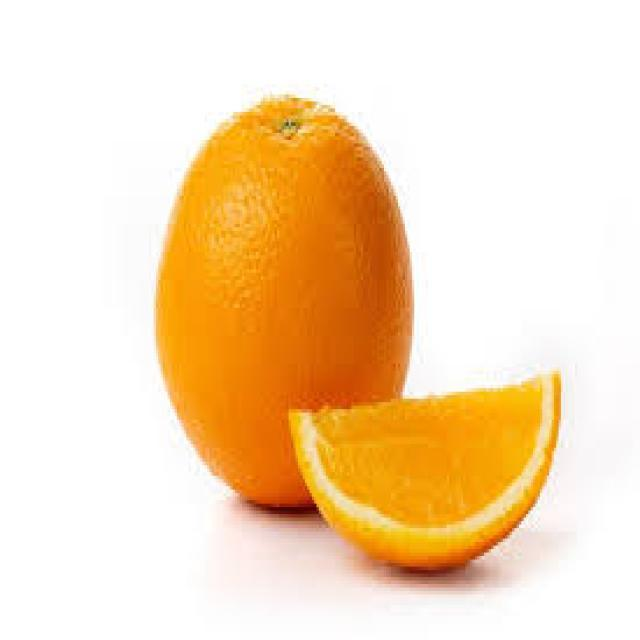Orange: (153, 92, 415, 510), (286, 367, 562, 572)
